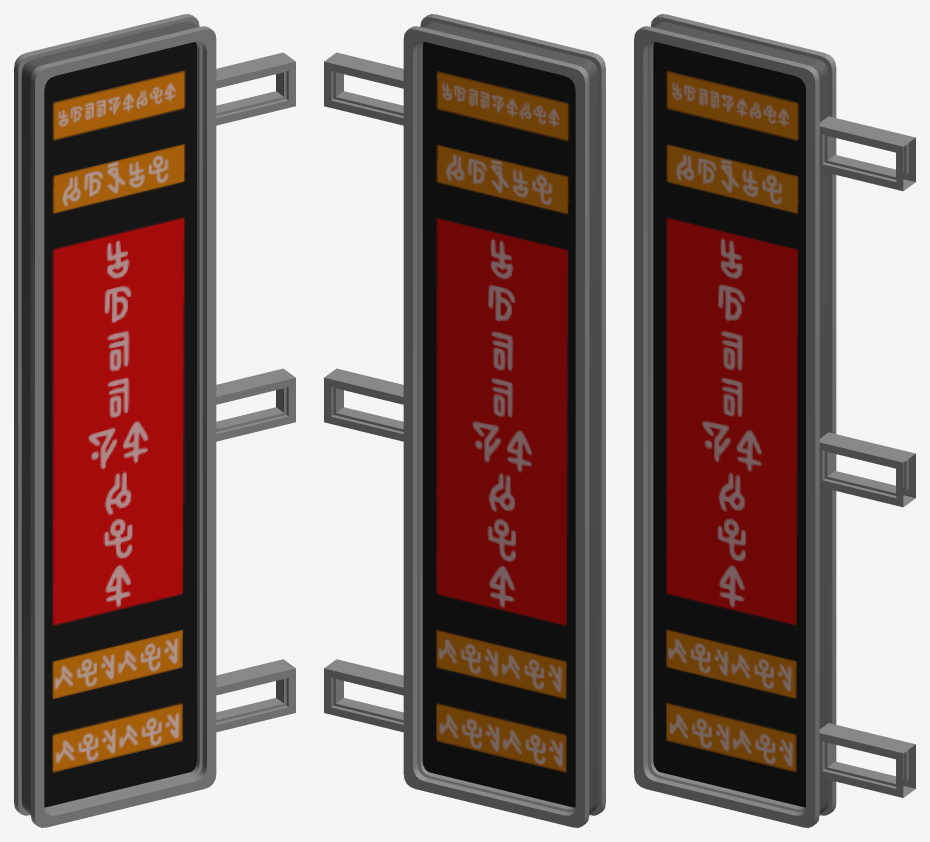
The picture shows the model from 3 angles, left to right: view 1: azimuth 30°, elevation 25°; view 2: azimuth 150°, elevation 25°; view 3: azimuth 330°, elevation 25°; orthographic projection.
Parts seen in each view (by area): view 1: MS_4M_3; view 2: MS_4M_3; view 3: MS_4M_3.
Part boxes in pixels (left/top/right/bottom): MS_4M_3: left=14, top=14, right=295, bottom=827; MS_4M_3: left=324, top=14, right=605, bottom=827; MS_4M_3: left=634, top=14, right=915, bottom=827.
Bounding box in the file's own units: 146 × 400 × 19.93.
